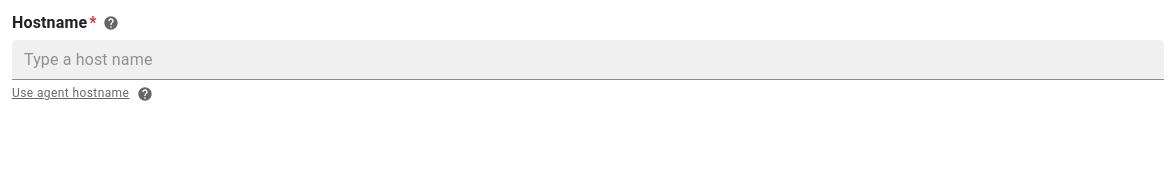
Test: Use agent hostname › fills the field with ec-win
Click the button "Use agent hostname". click: (71, 94)
box: [12,84,129,104]
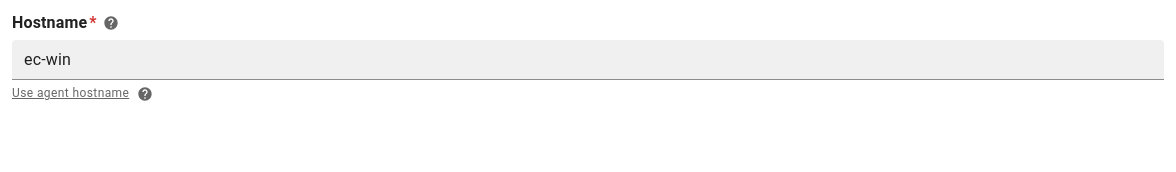
Now the dropdown holds "ec-win", box [20,40,1164,80]
